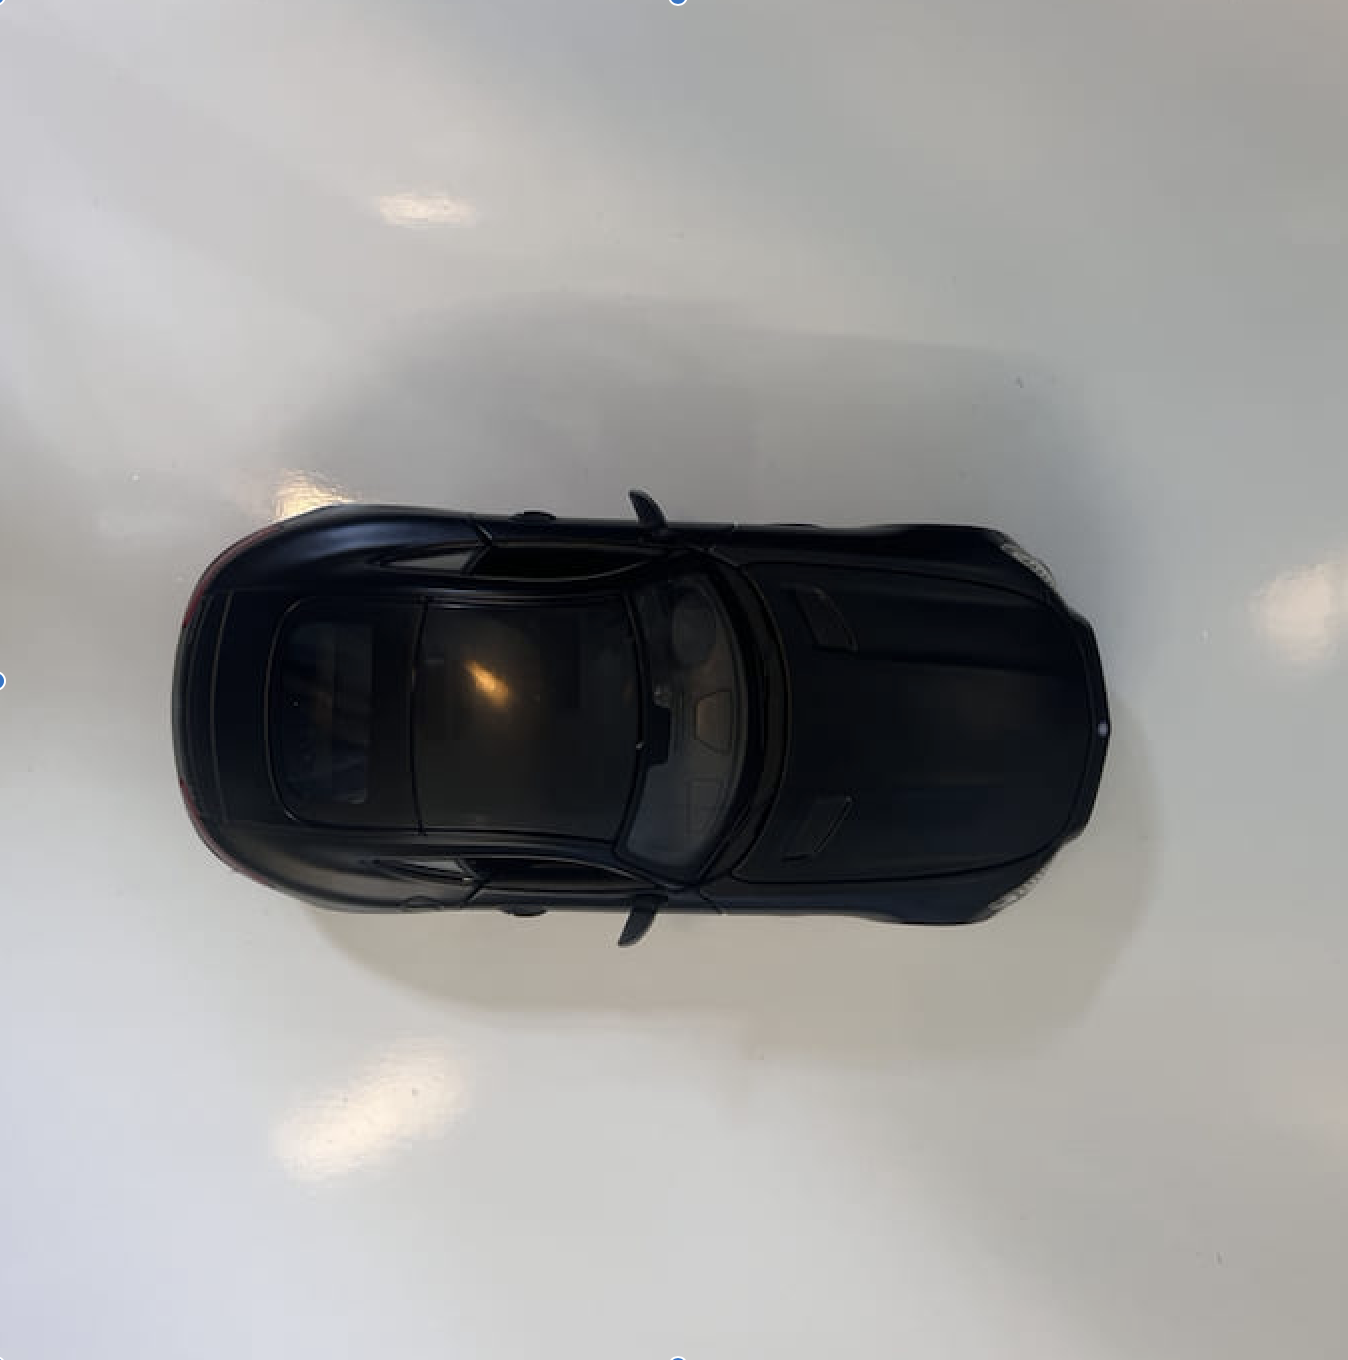car: (175, 485, 1111, 949)
